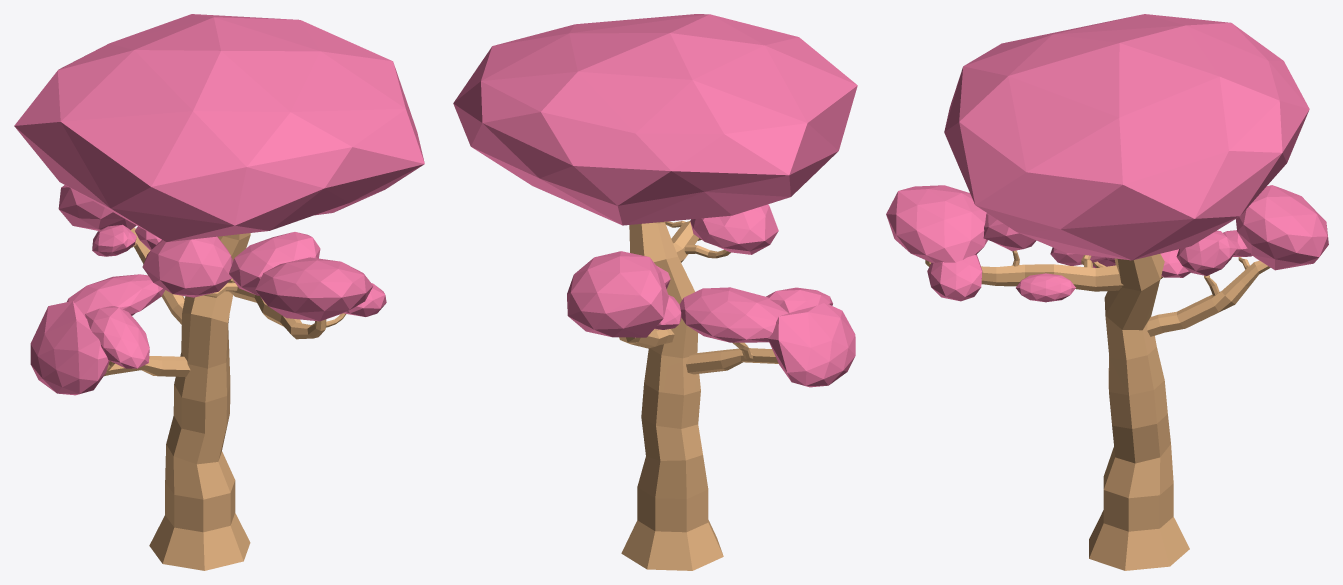
The model's file is sakura.glb.
The picture shows the model from 3 angles, left to right: view 1: azimuth 30°, elevation 25°; view 2: azimuth 150°, elevation 25°; view 3: azimuth 270°, elevation 25°; orthographic projection. The views are drawn at different scales.
Visible parts, largest first — view 1: Icosphere.011_Feuille_0.001, Tronc, Icosphere.007, Icosphere.010, Icosphere.001, Icosphere.004, Icosphere.009, Icosphere.008, Icosphere.003, Branches.007, Icosphere.002, Branches.003 (+2 smaller); view 2: Icosphere.011_Feuille_0.001, Tronc, Icosphere.003, Icosphere.010, Icosphere.008, Icosphere.001, Branches.003, Icosphere.009, Branches.001, Branches.007, Icosphere.002; view 3: Icosphere.011_Feuille_0.001, Tronc, Icosphere.007, Icosphere.003, Branches.007, Branches.001, Icosphere.006, Icosphere, Icosphere.005, Icosphere.004.
Part boxes in pixels (x1,y1,x2,y2): Icosphere.011_Feuille_0.001: (14, 14, 424, 242); Tronc: (149, 233, 250, 570); Icosphere.007: (255, 257, 373, 321); Icosphere.010: (30, 301, 109, 395); Icosphere.001: (142, 236, 233, 297); Icosphere.004: (229, 232, 320, 295); Icosphere.009: (85, 306, 149, 368); Icosphere.008: (67, 274, 164, 316); Icosphere.003: (58, 185, 136, 230); Branches.007: (228, 278, 326, 339); Icosphere.002: (92, 224, 136, 256); Branches.003: (104, 356, 190, 376); Icosphere.011_Feuille_0.001: (453, 14, 857, 225); Tronc: (621, 221, 723, 570); Icosphere.003: (567, 251, 668, 337); Icosphere.010: (767, 303, 855, 387); Icosphere.008: (679, 287, 788, 342); Icosphere.001: (690, 204, 778, 254); Branches.003: (686, 348, 778, 374); Icosphere.009: (766, 287, 832, 313); Branches.001: (619, 329, 674, 348); Branches.007: (671, 221, 701, 262); Icosphere.002: (654, 295, 681, 329); Icosphere.011_Feuille_0.001: (944, 14, 1309, 260); Tronc: (1089, 254, 1189, 570); Icosphere.007: (886, 185, 987, 262); Icosphere.003: (1235, 185, 1328, 270); Branches.007: (925, 260, 1123, 291); Branches.001: (1147, 260, 1270, 336); Icosphere.006: (927, 254, 982, 301); Icosphere: (1176, 230, 1237, 275); Icosphere.005: (1016, 273, 1075, 302); Icosphere.004: (983, 213, 1036, 251).
Size of the model in its own units: 564 by 767 by 601.
